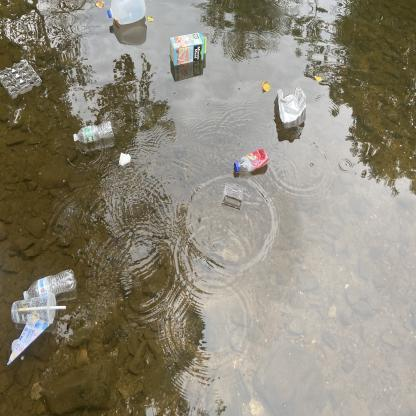trash: (6, 316, 52, 366), (0, 54, 43, 100), (10, 293, 68, 324), (23, 268, 78, 300), (168, 30, 209, 68), (276, 85, 308, 131), (70, 119, 116, 144), (233, 146, 269, 176), (106, 0, 147, 26), (221, 180, 245, 212), (118, 149, 130, 168)
